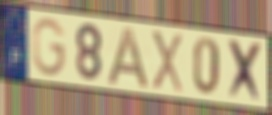0: (192, 36, 221, 98)
8: (74, 21, 104, 83)
A: (105, 25, 152, 91)
G: (31, 16, 68, 79)
X: (226, 36, 265, 107), (149, 28, 185, 96)
